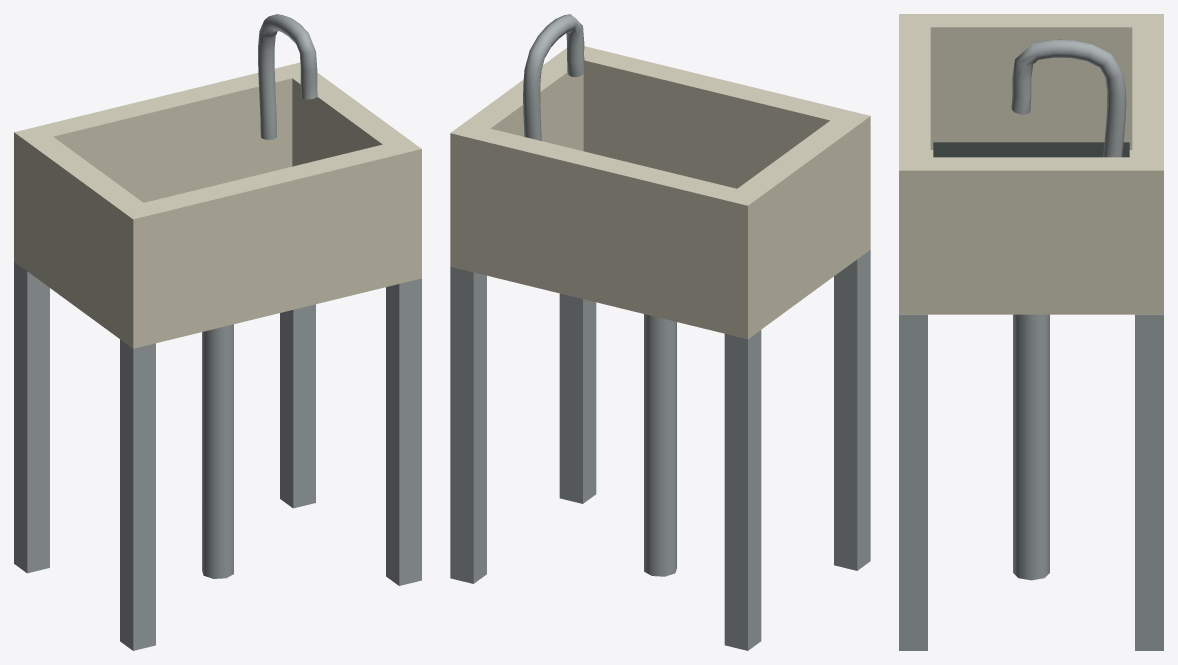
File: bunker-shelter-construction-handwash-station-3e410107.glb
The picture shows the model from 3 angles, left to right: view 1: azimuth 30°, elevation 25°; view 2: azimuth 150°, elevation 25°; view 3: azimuth 270°, elevation 25°; orthographic projection. The views are drawn at different scales.
Parts seen in each view (by area): view 1: handwash-station; view 2: handwash-station; view 3: handwash-station.
Boxes of the visible parts, <box> form: handwash-station: <box>14,14,421,650</box>; handwash-station: <box>450,14,870,650</box>; handwash-station: <box>899,14,1163,650</box>.
Bounding box in the file's own units: 0.7 × 1.21 × 0.5.
